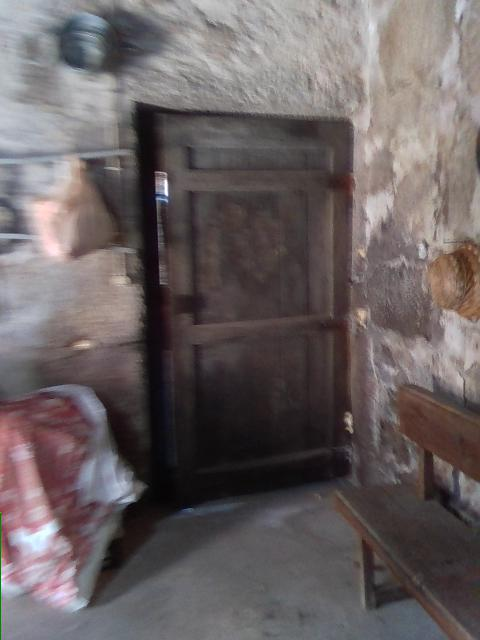door: (136, 98, 359, 508)
